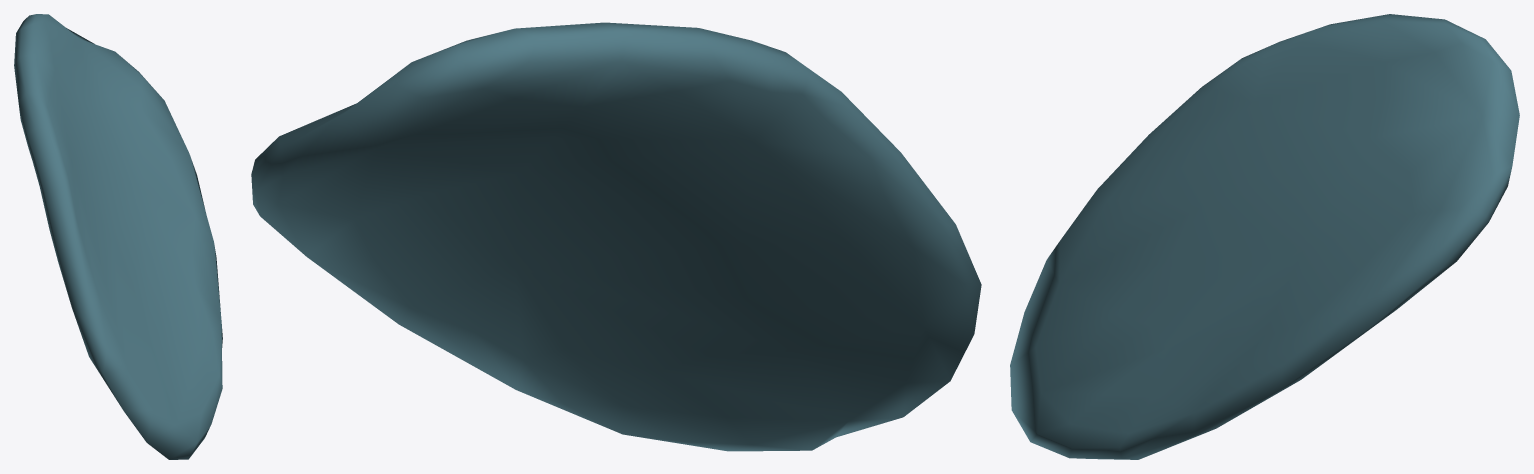
File: Extensor_digitorum-middle_phalanx-2d_finger.r_Generated_Mesh_Fr.glb
3 views of the same model, side by side, from view 1: azimuth 30°, elevation 25°; view 2: azimuth 150°, elevation 25°; view 3: azimuth 270°, elevation 25° (orthographic). The views are drawn at different scales.
Visible parts, largest first — view 1: Extensor_digitorum-middle_phalanx-2d_finger.r_Generated_Mesh; view 2: Extensor_digitorum-middle_phalanx-2d_finger.r_Generated_Mesh; view 3: Extensor_digitorum-middle_phalanx-2d_finger.r_Generated_Mesh.
Boxes of the visible parts, bbox=[...] form: Extensor_digitorum-middle_phalanx-2d_finger.r_Generated_Mesh: bbox=[14, 14, 222, 459]; Extensor_digitorum-middle_phalanx-2d_finger.r_Generated_Mesh: bbox=[251, 22, 981, 451]; Extensor_digitorum-middle_phalanx-2d_finger.r_Generated_Mesh: bbox=[1010, 14, 1519, 459].
Bounding box in the file's own units: 0.00397 × 0.00543 × 0.00598.
